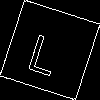L: (24, 24, 66, 77)
